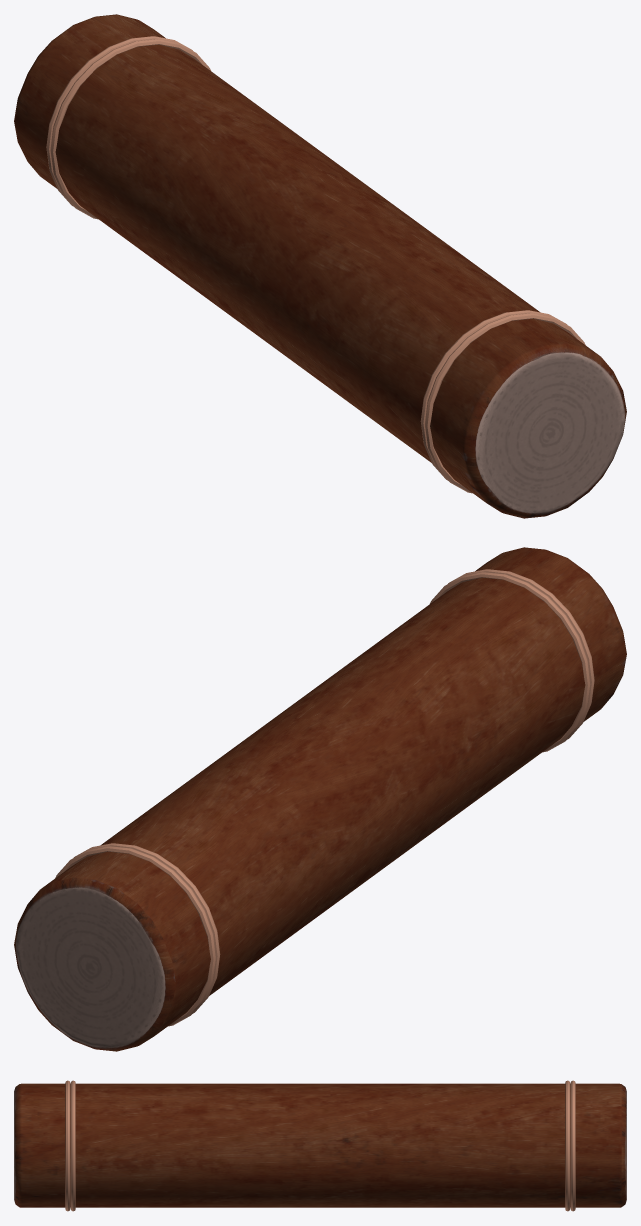
The model's file is maruta.fbx.
3 renders of one model, top to bottom at view 1: azimuth 30°, elevation 25°; view 2: azimuth 150°, elevation 25°; view 3: azimuth 270°, elevation 25°, orthographic. The views are drawn at different scales.
Parts seen in each view (by area): view 1: maruta, himo1, himo2; view 2: maruta, himo1, himo2; view 3: maruta, himo1, himo2.
Part boxes in pixels (box(x1,y1,x2,y2)): maruta: box(14, 14, 626, 518); himo1: box(46, 36, 585, 493); himo2: box(50, 39, 567, 480); maruta: box(14, 547, 626, 1051); himo1: box(55, 569, 594, 1026); himo2: box(73, 572, 590, 1013); maruta: box(14, 1083, 626, 1207); himo1: box(65, 1080, 575, 1211); himo2: box(70, 1080, 570, 1211).
Bounding box in the file's own units: 13.29 × 13.29 × 61.95.
